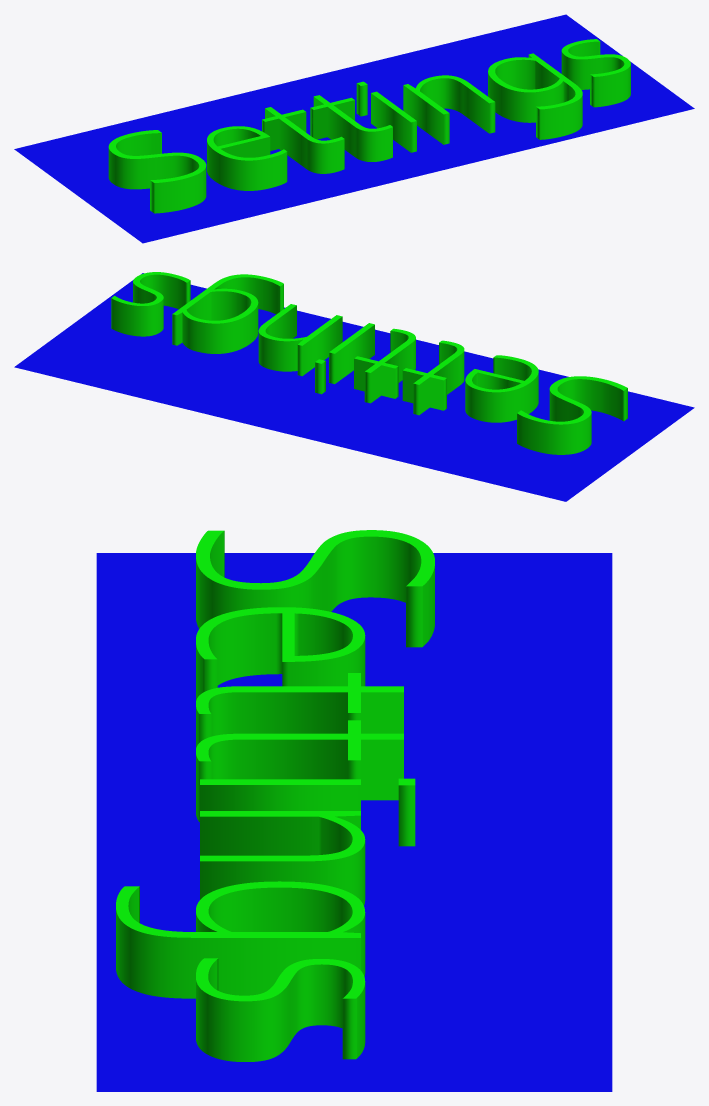
File: settings.glb
3 views of the same model, one above another, from view 1: azimuth 30°, elevation 25°; view 2: azimuth 150°, elevation 25°; view 3: azimuth 270°, elevation 25° (orthographic). The views are drawn at different scales.
Visible parts, largest first — view 1: Plane, Text; view 2: Plane, Text; view 3: Plane, Text.
Boxes of the visible parts, x1,y1,x2,y2 form: Plane: (14, 14, 694, 243); Text: (108, 39, 630, 213); Plane: (14, 273, 694, 501); Text: (111, 272, 627, 454); Plane: (96, 553, 612, 1091); Text: (116, 530, 434, 1061).
Bounding box in the file's own units: 1.9 × 0.1 × 0.768.
